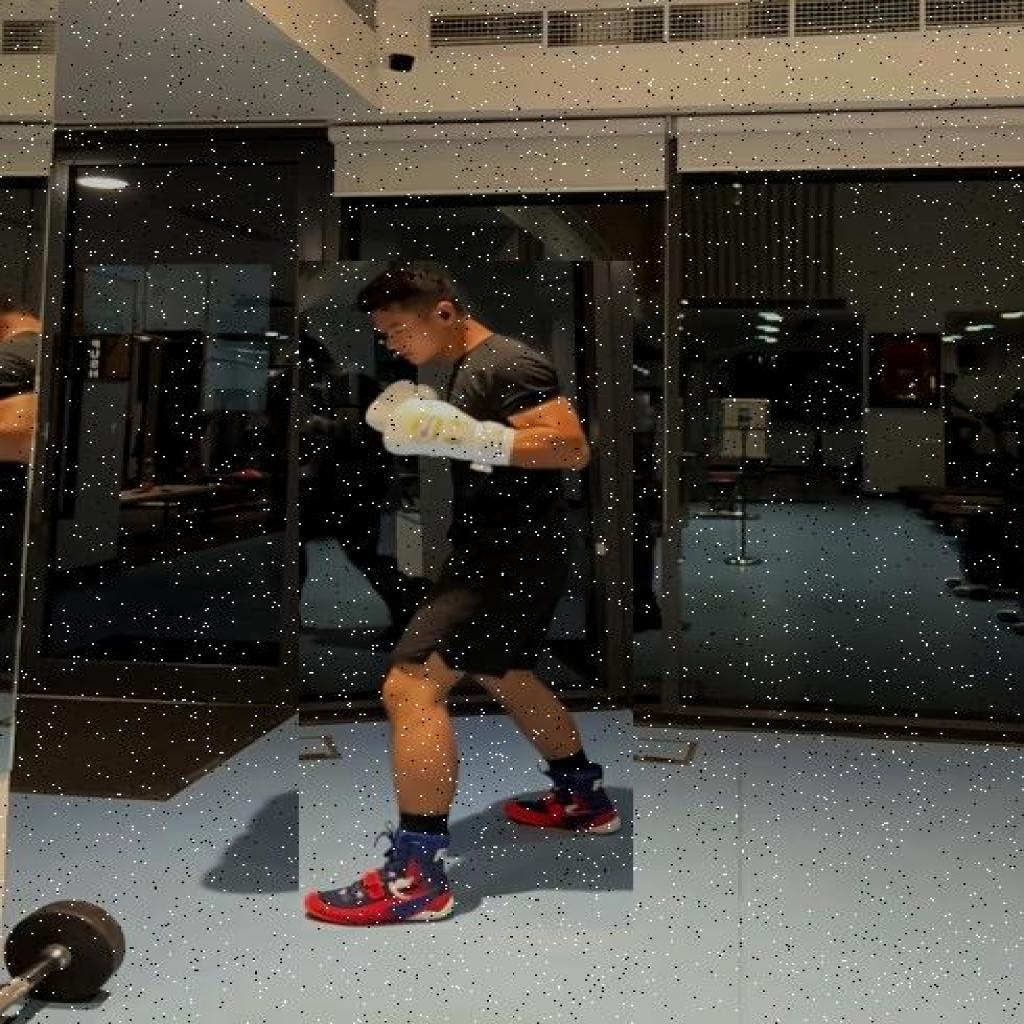no punch: (299, 260, 633, 930)
